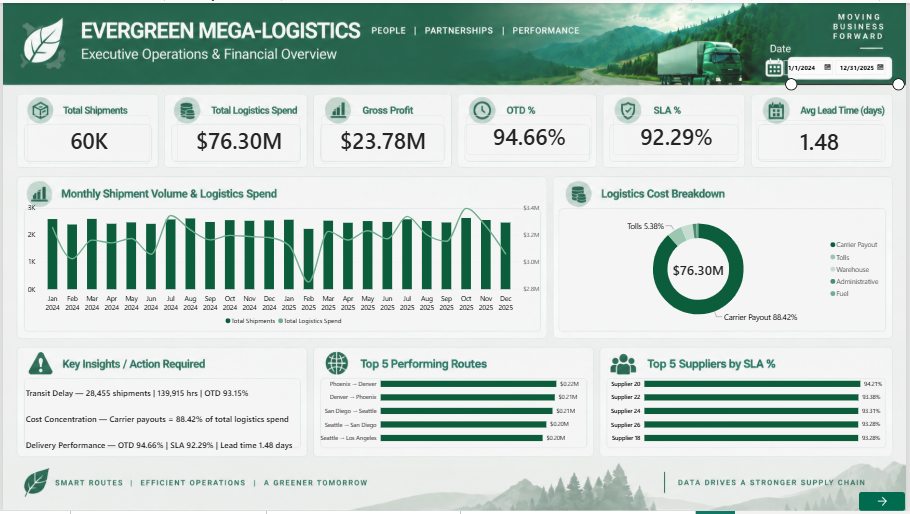

What the dashboard file says about the page in this screenshot:
{"tool":"powerbi","page":{"name":"Executive Hub","canvas":[1920,1080],"ordinal":0},"visuals":[{"type":"cardVisual","fields":{"Data":["Measures (2).Total Shipments"]},"box":[50.9,238.7,262.8,104.6],"z":0},{"type":"cardVisual","fields":{"Data":["Measures (2).Total Logistics Spend"]},"box":[370.1,238.7,262.8,104.6],"z":1000},{"type":"cardVisual","fields":{"Data":["Measures (2).Gross Profit"]},"box":[675.8,238.7,262.8,104.6],"z":2000},{"type":"cardVisual","fields":{"Data":["Measures (2).OTD %"]},"box":[984.1,238.7,268.2,85.8],"z":3000},{"type":"cardVisual","fields":{"Data":["Measures (2).SLA %"]},"box":[1297.9,238.7,268.2,85.8],"z":4000},{"type":"cardVisual","fields":{"Data":["Measures (2).Avg Lead Time"]},"box":[1600.9,249.4,268.2,85.8],"z":5000},{"type":"lineClusteredColumnComboChart","fields":{"Category":["evergreen_mega_logistics dim_date.Month_Year"],"Y":["Measures (2).Total Shipments"],"Y2":["Measures (2).Total Logistics Spend"]},"box":[36.1,410.3,1124.6,295.5],"z":6000},{"type":"donutChart","fields":{"Category":["Cost Categories.Cost Category"],"Y":["Measures (2).Cost Breakdown"]},"box":[1181.5,428.1,704.2,278.3],"z":7000},{"type":"cardVisual","fields":{"Data":["Measures (2).Transit Insight","Measures (2).Cost Insight","Measures (2).Delivery Insight"]},"box":[36.4,800.5,597.2,160.5],"z":8000},{"type":"clusteredBarChart","fields":{"Category":["evergreen_mega_logistics fact_shipments.Route"],"Y":["Measures (2).Gross Profit"]},"box":[657.1,770.6,595.1,190.5],"z":9000},{"type":"clusteredBarChart","fields":{"Category":["evergreen_mega_logistics dim_suppliers.Supplier_Name"],"Y":["Measures (2).SLA %"]},"box":[1275.7,770.6,610,190.5],"z":10000},{"type":"slicer","fields":{"Values":["evergreen_mega_logistics dim_date.Date"]},"box":[1652.4,117.7,267.6,72.8],"z":11000},{"type":"actionButton","box":[1819.8,1039.6,97.8,40.4],"z":12000}]}

Visuals, with their boxes in screenshot pixels (x1, y1, x2, y2), scaled from the page's 1920x1080 canvas onto the 910x514 screenshot:
cardVisual - Measures (2).Total Shipments: Rect(24, 114, 149, 163)
cardVisual - Measures (2).Total Logistics Spend: Rect(175, 114, 300, 163)
cardVisual - Measures (2).Gross Profit: Rect(320, 114, 445, 163)
cardVisual - Measures (2).OTD %: Rect(466, 114, 594, 154)
cardVisual - Measures (2).SLA %: Rect(615, 114, 742, 154)
cardVisual - Measures (2).Avg Lead Time: Rect(759, 119, 886, 160)
lineClusteredColumnComboChart - evergreen_mega_logistics dim_date.Month_Year x Measures (2).Total Shipments: Rect(17, 195, 550, 336)
donutChart - Cost Categories.Cost Category x Measures (2).Cost Breakdown: Rect(560, 204, 894, 336)
cardVisual - Measures (2).Transit Insight x Measures (2).Cost Insight: Rect(17, 381, 300, 457)
clusteredBarChart - evergreen_mega_logistics fact_shipments.Route x Measures (2).Gross Profit: Rect(311, 367, 593, 457)
clusteredBarChart - evergreen_mega_logistics dim_suppliers.Supplier_Name x Measures (2).SLA %: Rect(605, 367, 894, 457)
slicer - evergreen_mega_logistics dim_date.Date: Rect(783, 56, 909, 91)
actionButton: Rect(863, 495, 909, 513)
